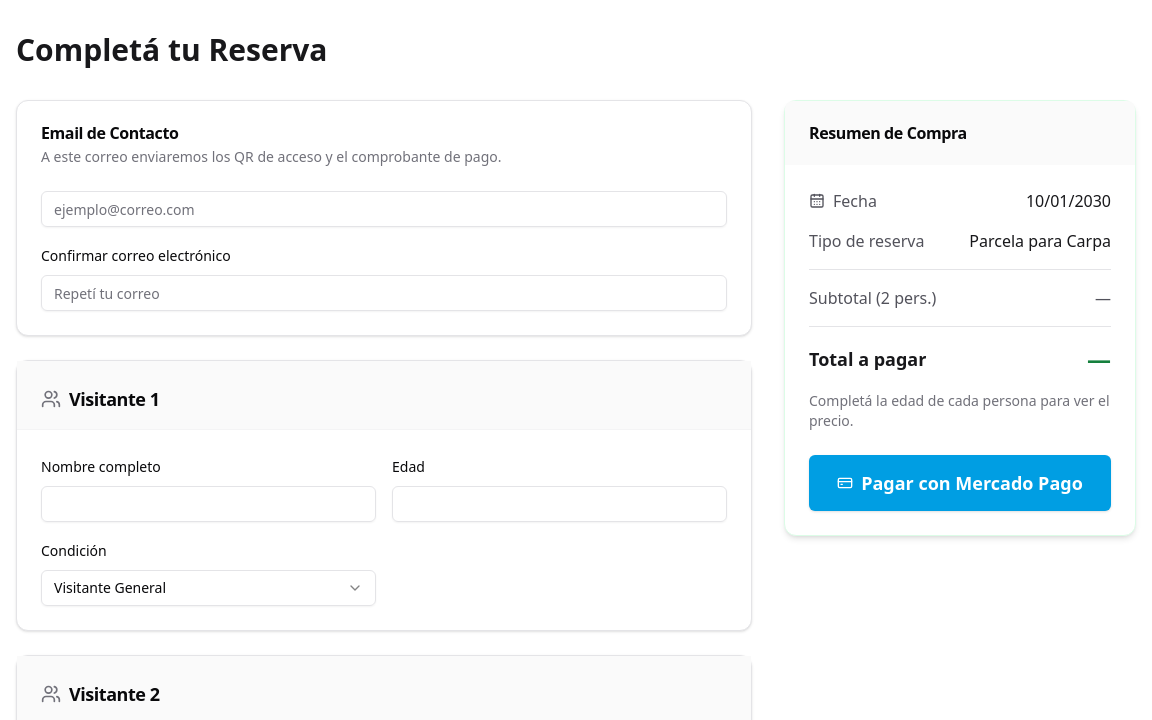
it: Reservas: precio calculado por el backend › muestra el subtotal, el descuento y el total que devuelve el backend
Type "70" into the 4th field at [560, 504], box [392, 486, 727, 522]
(page scrolled)
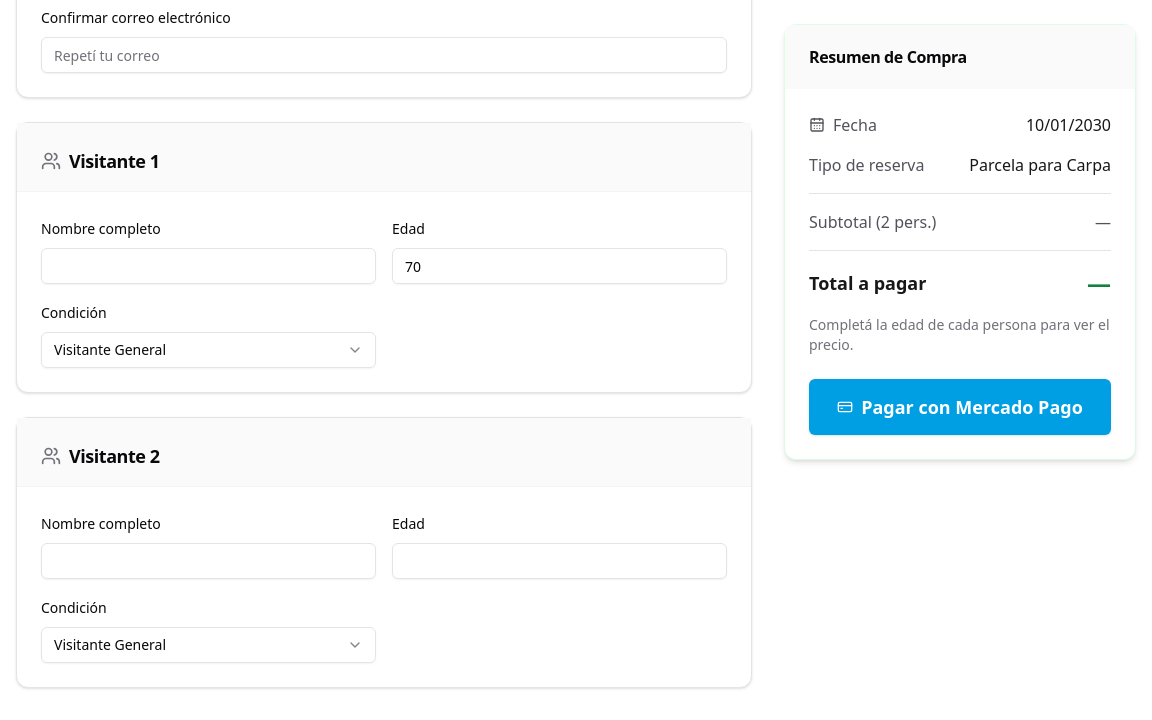
Type "68" into the 5th field at [560, 561], box [392, 543, 727, 579]
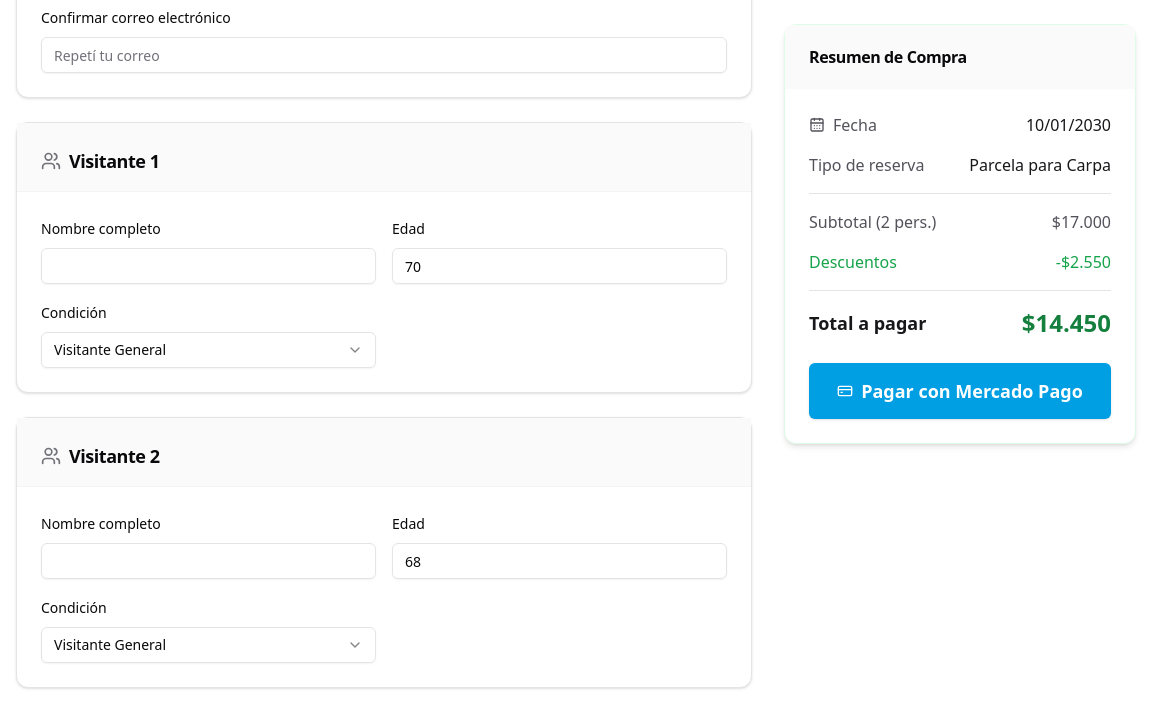
Result: the text "$14.450" is shown at [1022, 307, 1111, 339]
Result: the text "$17.000" is shown at [1052, 210, 1111, 234]
Result: the text "-$2.550" is shown at [1056, 250, 1111, 274]
